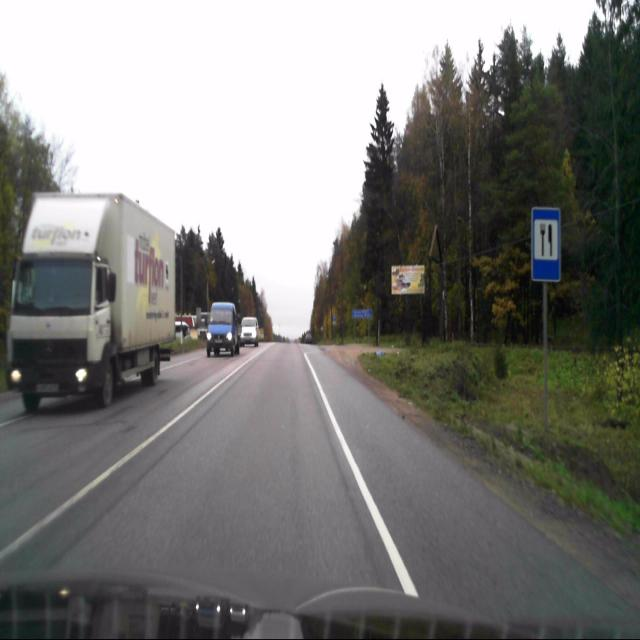road sign: (532, 208, 561, 284)
